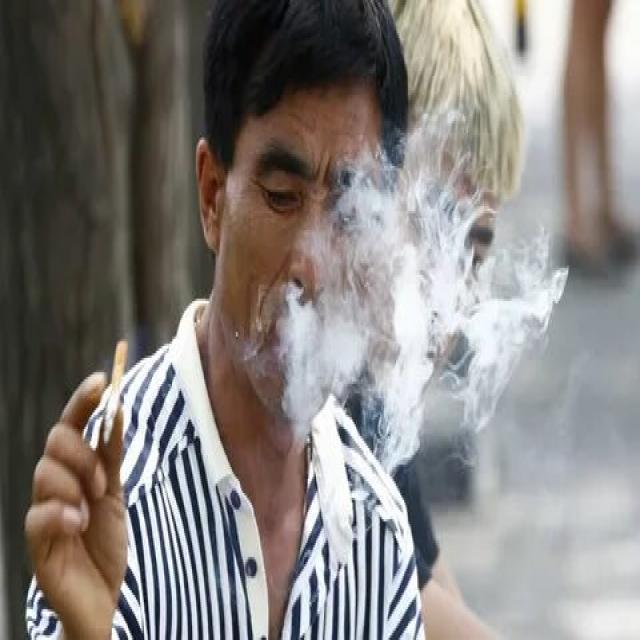cigarette: (100, 339, 131, 448)
